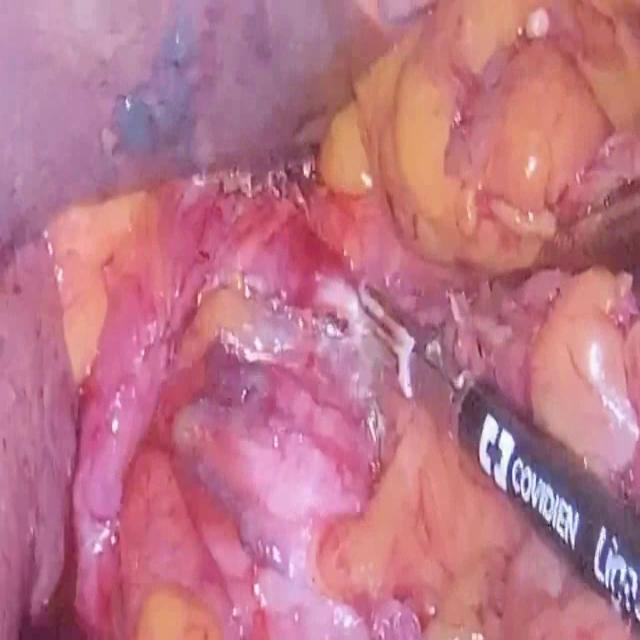surgical-tool: (358, 279, 640, 639)
